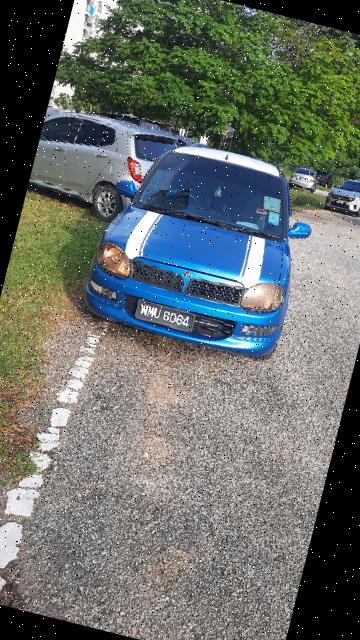License_Plate: (133, 297, 199, 337)
car: (77, 120, 326, 369), (26, 90, 187, 232), (319, 169, 360, 226)
